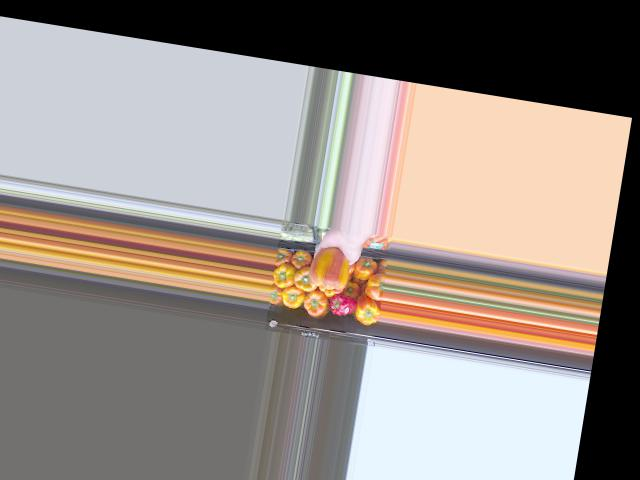bell_pepper: (350, 258, 379, 282)
